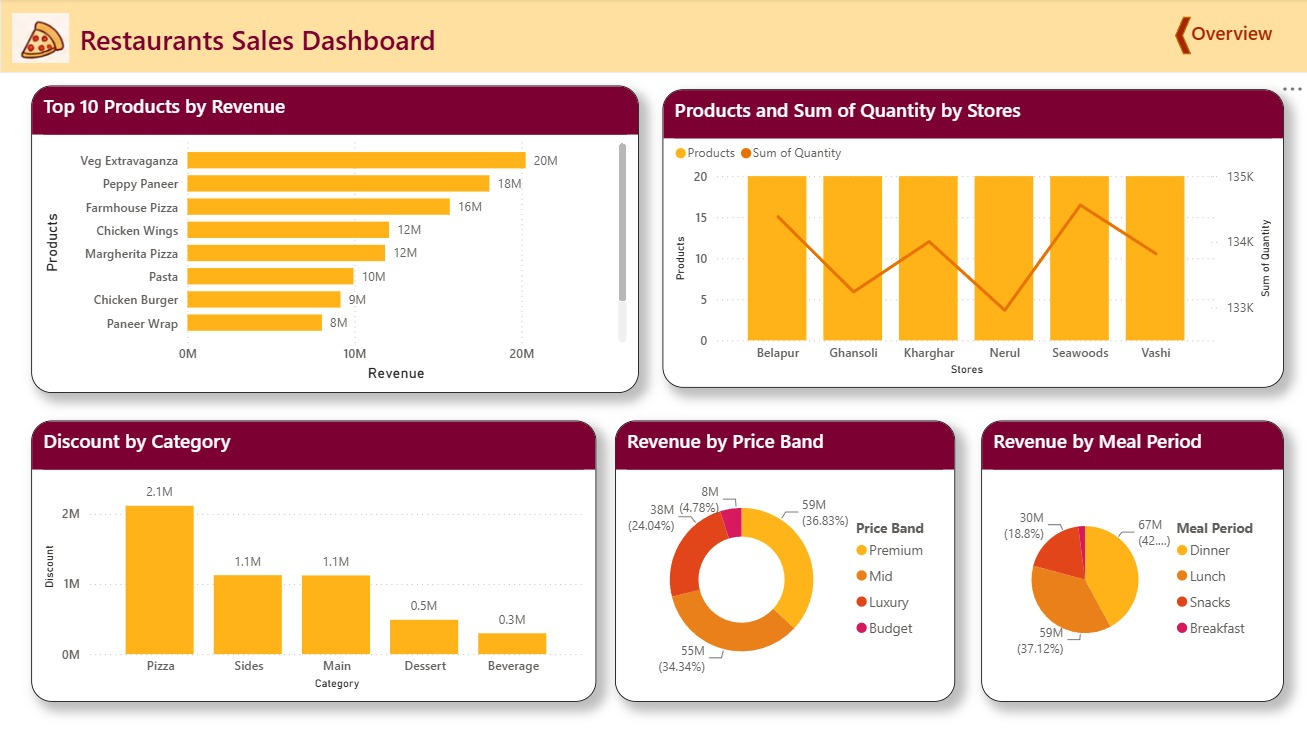

The dashboard page shown, as its layout file describes it:
{"tool":"powerbi","page":{"name":"Products","canvas":[1280,720],"ordinal":1},"visuals":[{"type":"textbox","box":[0,0,1280,72.9],"z":0},{"type":"barChart","title":"Top 10 Products by Revenue","fields":{"Category":["dim_products.product_name"],"Y":["fact_sales.Revenue"]},"box":[30.6,85.6,594.3,300.8],"z":1000},{"type":"donutChart","fields":{"Category":["dim_products.price_band"],"Y":["fact_sales.Revenue"]},"box":[601.6,413.3,332.6,275.1],"z":2000},{"type":"columnChart","fields":{"Category":["dim_products.category"],"Y":["Sum(fact_sales.discount_amount)"]},"box":[30.6,413.3,552.7,275.1],"z":3000},{"type":"lineClusteredColumnComboChart","fields":{"Category":["dim_stores.store_name"],"Y":["CountNonNull(dim_products.product_name)"],"Y2":["Sum(fact_sales.quantity)"]},"box":[648.1,89.3,607.7,292.3],"z":4000},{"type":"pieChart","fields":{"Category":["fact_sales.meal_period"],"Y":["fact_sales.Revenue"]},"box":[959.9,413.3,295.9,275.1],"z":5000},{"type":"image","box":[8.6,14.7,62.4,48.9],"z":6000},{"type":"shape","box":[1149.5,18.3,15.9,36.7],"z":6001},{"type":"actionButton","title":"Overview","box":[1165.4,20.8,90.5,40.4],"z":6002}]}

Visuals, with their boxes in screenshot pixels (x1, y1, x2, y2), scaled from the page's 1280x720 canvas onto the 1307x732 screenshot:
textbox: (x1=0, y1=0, x2=1306, y2=74)
"Top 10 Products by Revenue" barChart: (x1=31, y1=87, x2=638, y2=393)
donutChart - dim_products.price_band x fact_sales.Revenue: (x1=614, y1=420, x2=954, y2=700)
columnChart - dim_products.category x Sum(fact_sales.discount_amount): (x1=31, y1=420, x2=596, y2=700)
lineClusteredColumnComboChart - dim_stores.store_name x CountNonNull(dim_products.product_name): (x1=662, y1=91, x2=1282, y2=388)
pieChart - fact_sales.meal_period x fact_sales.Revenue: (x1=980, y1=420, x2=1282, y2=700)
image: (x1=9, y1=15, x2=72, y2=65)
shape: (x1=1174, y1=19, x2=1190, y2=56)
"Overview" actionButton: (x1=1190, y1=21, x2=1282, y2=62)
